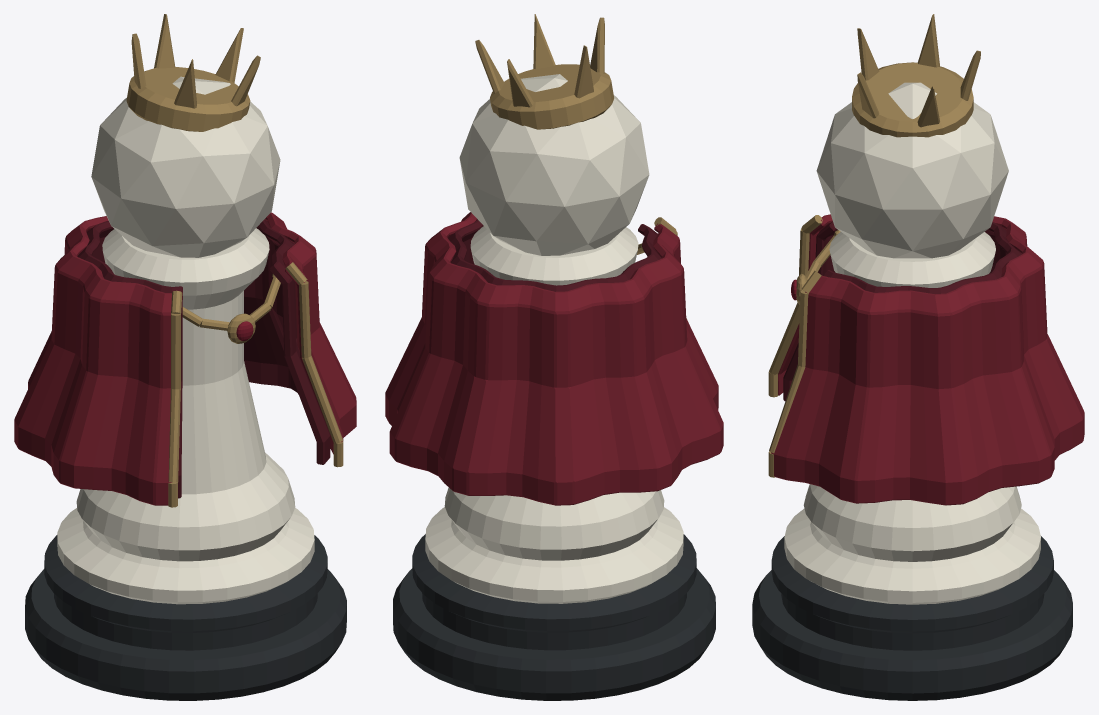
The model's file is CHR_ash.glb.
The picture shows the model from 3 angles, left to right: view 1: azimuth 30°, elevation 25°; view 2: azimuth 150°, elevation 25°; view 3: azimuth 270°, elevation 25°; orthographic projection.
Parts seen in each view (by area): view 1: CHR_ash__ivory, CHR_ash__red, CHR_ash__black, CHR_ash__redshadow, CHR_ash__brass__coronet, CHR_ash__brass; view 2: CHR_ash__red, CHR_ash__ivory, CHR_ash__black, CHR_ash__brass__coronet, CHR_ash__redshadow; view 3: CHR_ash__red, CHR_ash__ivory, CHR_ash__black, CHR_ash__brass__coronet, CHR_ash__brass, CHR_ash__redshadow.
Part boxes in pixels (box(x1,y1,x2,y2)): CHR_ash__ivory: box(57, 76, 314, 604); CHR_ash__red: box(14, 212, 356, 505); CHR_ash__black: box(25, 535, 346, 700); CHR_ash__redshadow: box(77, 219, 330, 498); CHR_ash__brass__coronet: box(126, 14, 260, 131); CHR_ash__brass: box(168, 262, 343, 507); CHR_ash__red: box(385, 212, 723, 505); CHR_ash__ivory: box(425, 74, 683, 603); CHR_ash__black: box(393, 534, 715, 700); CHR_ash__brass__coronet: box(475, 14, 614, 129); CHR_ash__redshadow: box(448, 219, 661, 291); CHR_ash__red: box(771, 214, 1084, 505); CHR_ash__ivory: box(784, 82, 1040, 604); CHR_ash__black: box(752, 536, 1072, 700); CHR_ash__brass__coronet: box(852, 14, 980, 137); CHR_ash__brass: box(768, 215, 840, 477); CHR_ash__redshadow: box(783, 221, 1021, 401).
Size of the model in its own units: 0.7325 by 1.45 by 0.7257.
